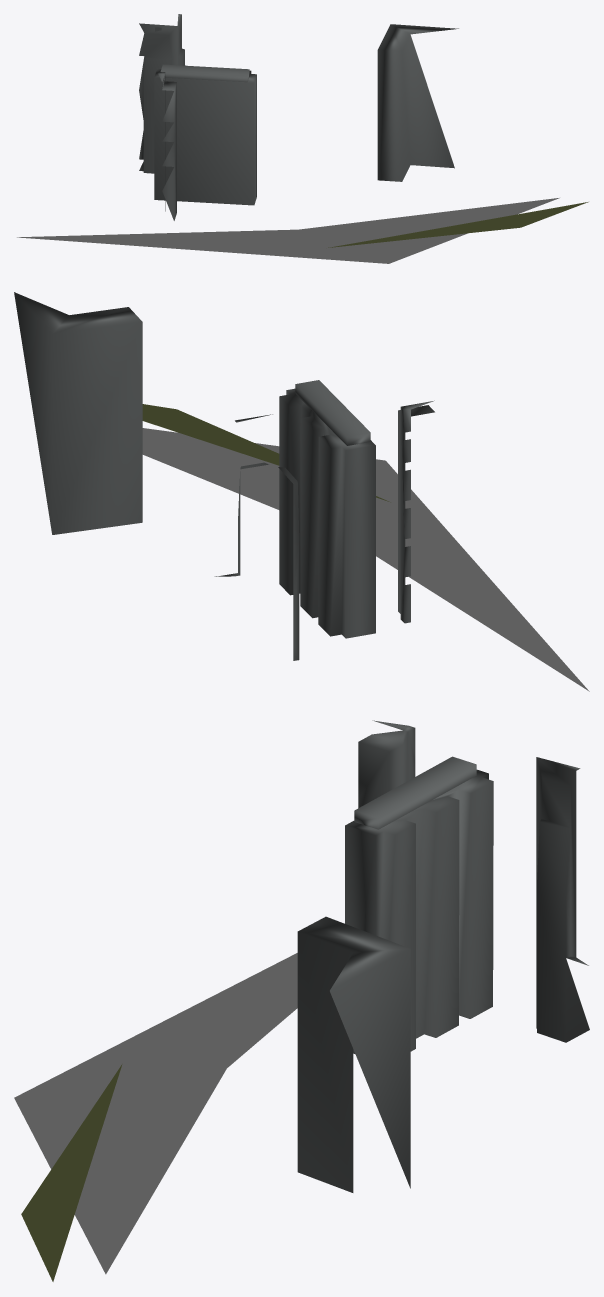
3 views of the same model, one above another, from view 1: azimuth 30°, elevation 25°; view 2: azimuth 150°, elevation 25°; view 3: azimuth 270°, elevation 25° (orthographic). The views are drawn at different scales.
Parts seen in each view (by area): view 1: merged__lod1; view 2: merged__lod1; view 3: merged__lod1.
Part boxes in pixels (box(x1,y1,x2,y2)): merged__lod1: box(17, 14, 588, 263); merged__lod1: box(14, 292, 589, 691); merged__lod1: box(14, 720, 589, 1281).
Size of the model in its own units: 367 by 114 by 214.
